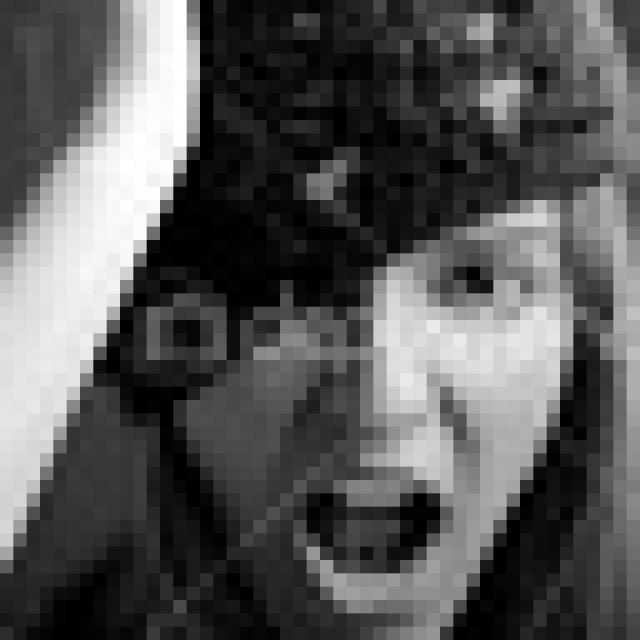angry: (240, 215, 565, 616)
